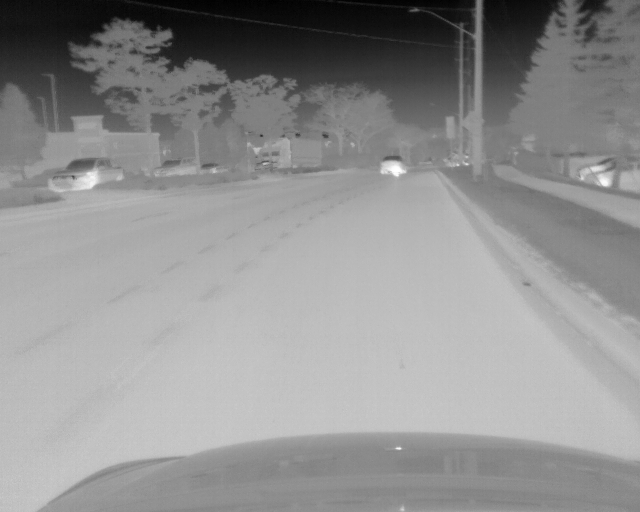car: (49, 157, 124, 190), (256, 137, 322, 169), (586, 163, 639, 189), (577, 155, 622, 178), (153, 159, 197, 177), (380, 155, 407, 176), (200, 162, 220, 174)
